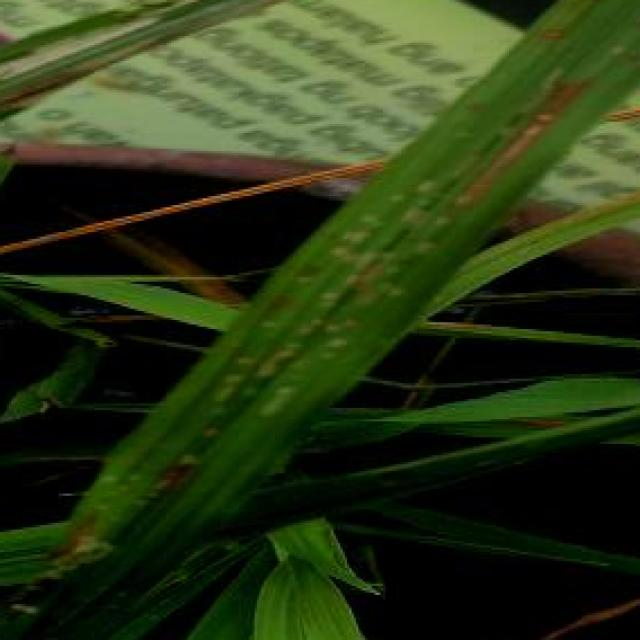Leaf_Blast: (450, 70, 620, 239)
